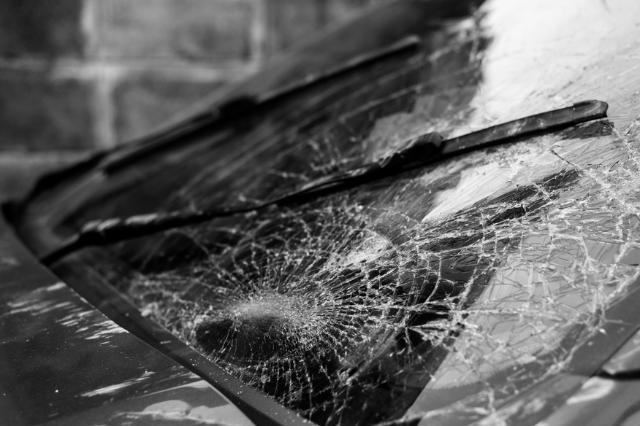Windshield: (1, 133, 634, 426)
